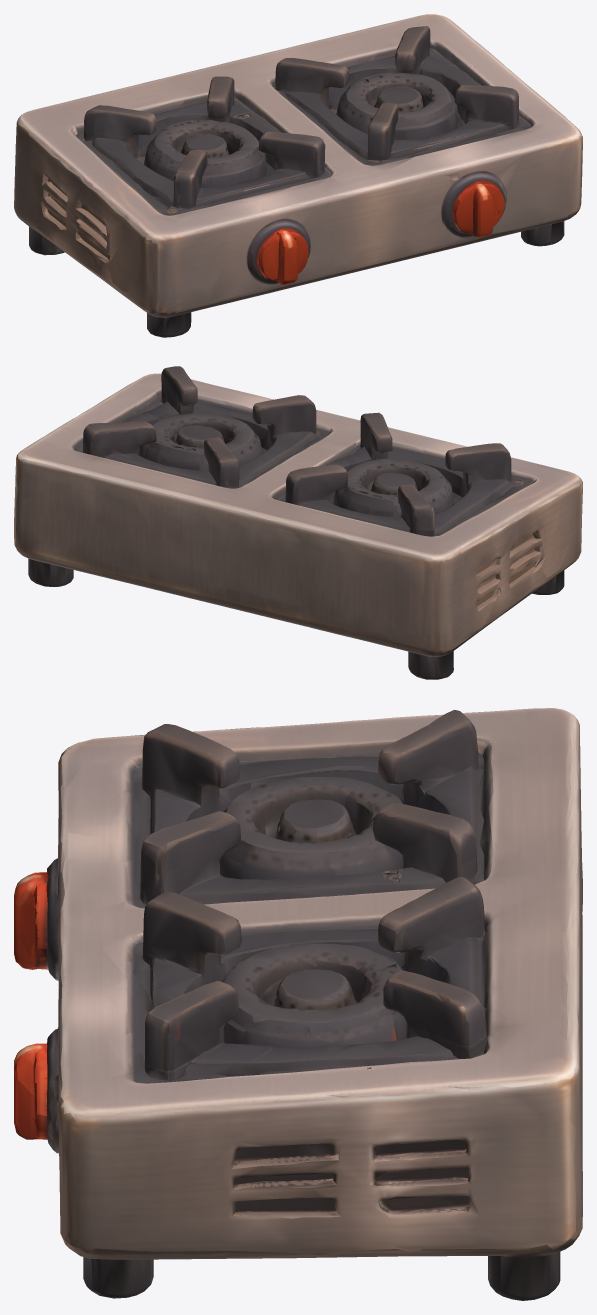
File: Stove.fbx
3 views of the same model, one above another, from view 1: azimuth 30°, elevation 25°; view 2: azimuth 150°, elevation 25°; view 3: azimuth 270°, elevation 25° (orthographic). The views are drawn at different scales.
Parts seen in each view (by area): view 1: B04_Lux3D_G1; view 2: B04_Lux3D_G1; view 3: B04_Lux3D_G1.
Boxes of the visible parts, left/top/right/bottom form: B04_Lux3D_G1: left=14, top=14, right=582, bottom=337; B04_Lux3D_G1: left=14, top=366, right=582, bottom=679; B04_Lux3D_G1: left=14, top=708, right=582, bottom=1300.
Size of the model in its own units: 0.92 by 0.3 by 0.58.
